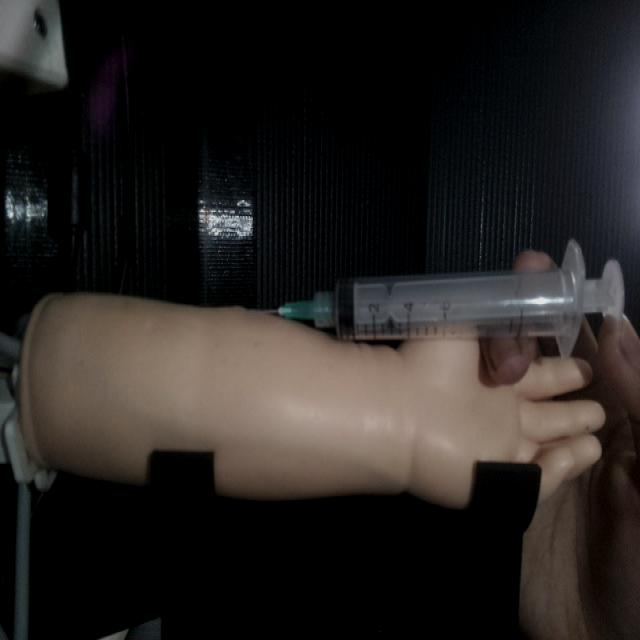Below 15 degrees: (267, 236, 626, 353)
